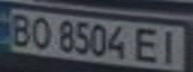0: (87, 21, 109, 57)
4: (106, 22, 133, 61)
5: (72, 19, 93, 56)
8: (54, 17, 75, 54)
B: (6, 10, 36, 47)
E: (130, 25, 166, 64)
I: (154, 27, 187, 65)
O: (27, 15, 54, 51)
